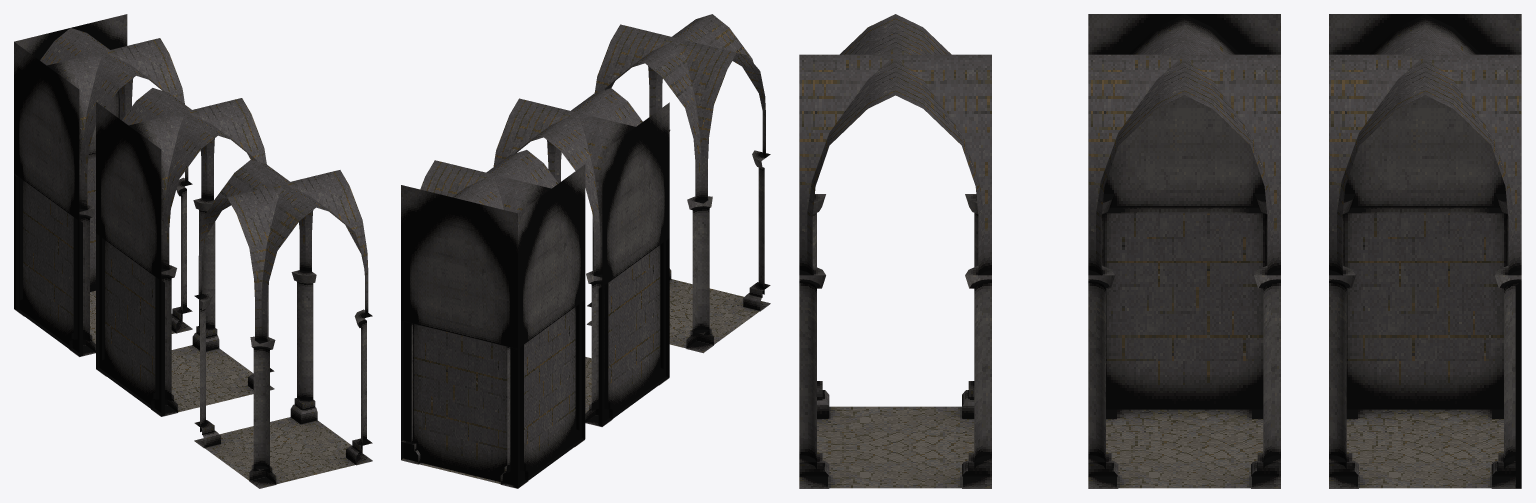
Rendered from wall2.glb.
3 renders of one model, left to right at view 1: azimuth 30°, elevation 25°; view 2: azimuth 150°, elevation 25°; view 3: azimuth 270°, elevation 25°, orthographic. The views are drawn at different scales.
Visible parts, largest first — view 1: wall2_col, wall2_corner_col, wall2_floor_cel_col; view 2: wall2_corner_col, wall2_col, wall2_floor_cel_col; view 3: wall2_col, wall2_corner_col, wall2_floor_cel_col.
Boxes of the visible parts, <box> form: wall2_col: <box>96,88,274,416</box>; wall2_corner_col: <box>14,14,192,356</box>; wall2_floor_cel_col: <box>194,160,372,488</box>; wall2_corner_col: <box>401,150,585,488</box>; wall2_col: <box>493,88,669,426</box>; wall2_floor_cel_col: <box>587,14,770,353</box>; wall2_col: <box>1088,14,1280,488</box>; wall2_corner_col: <box>1329,14,1521,488</box>; wall2_floor_cel_col: <box>799,14,991,488</box>.
Bounding box in the file's own units: 4 × 9.02 × 15.
1 material, 1 textured.
